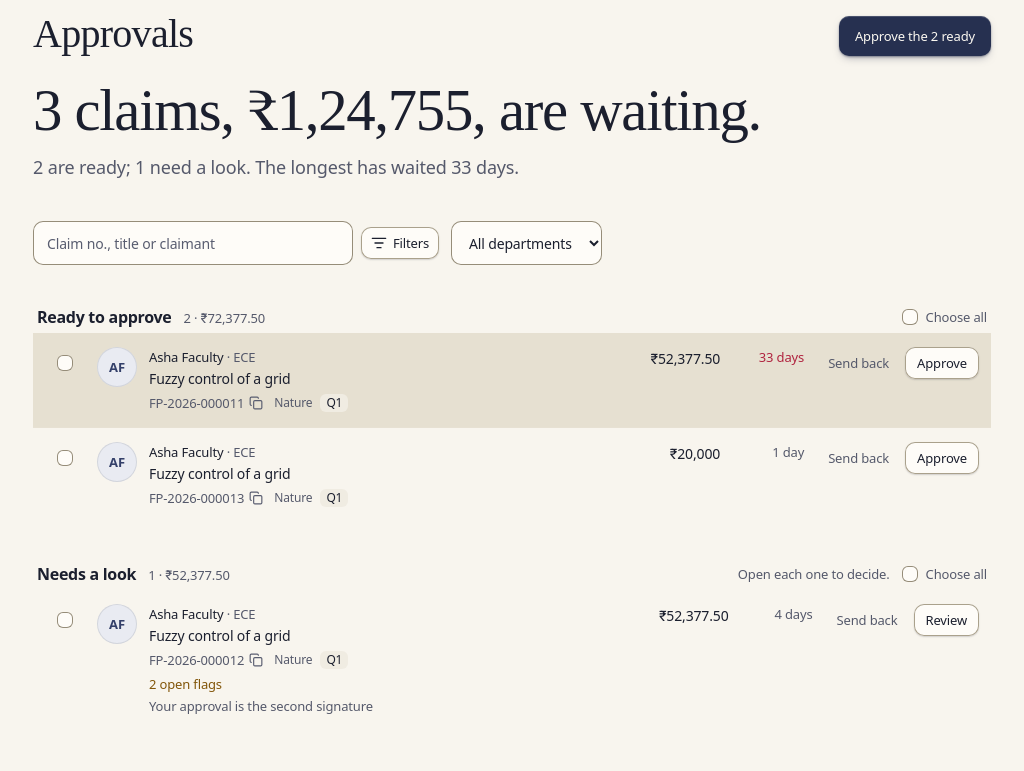
the approvals queue › has bulk hold and no bulk send back
Expected: the element "Ready to approve" is shown, [33, 305, 991, 522]
Click the checkbox named "FP-2026-000011" at (65, 363), box [57, 355, 73, 371]
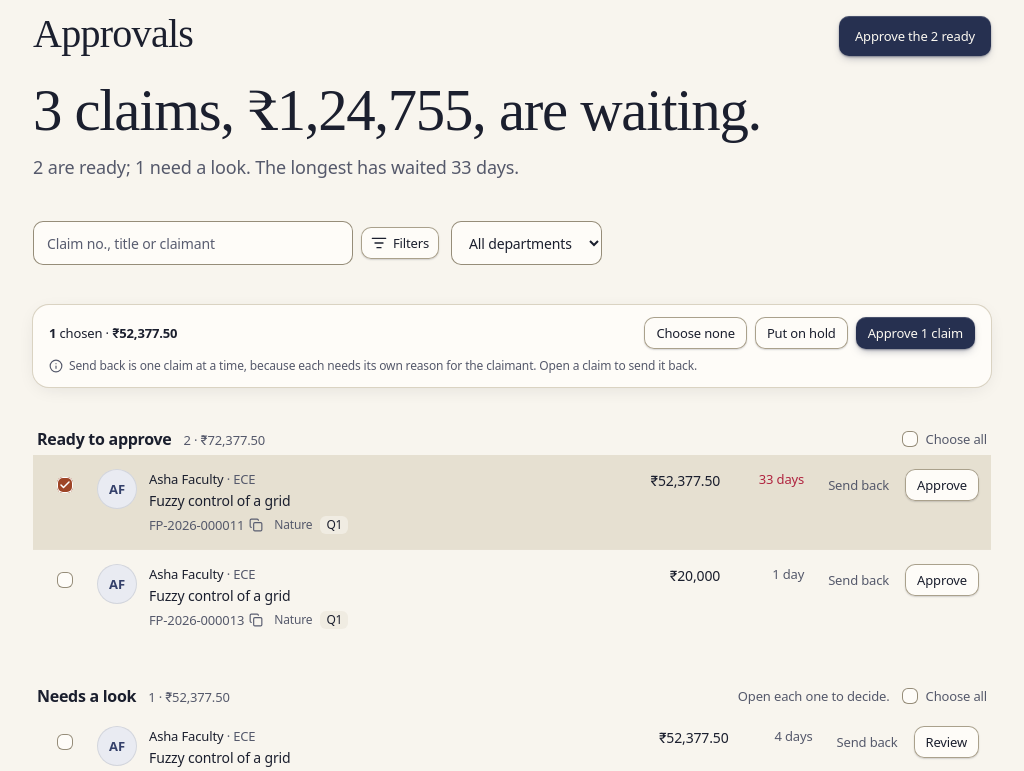
Expected: the button "Put on hold" is shown, [755, 317, 848, 349]
Expected: the text "Send back is one claim at a time" is shown, [69, 357, 697, 374]
